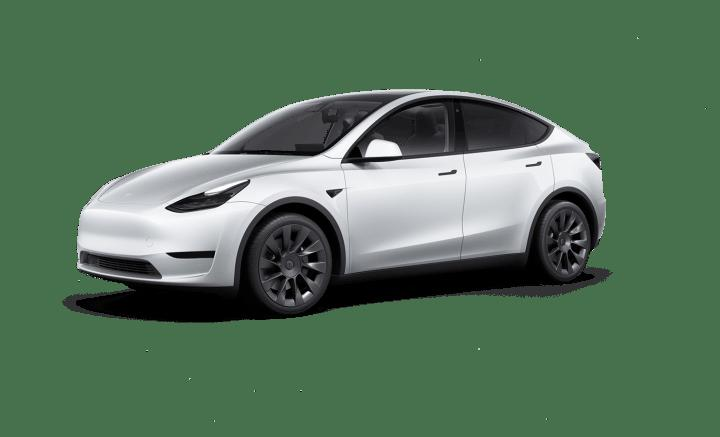car: (71, 84, 621, 319)
